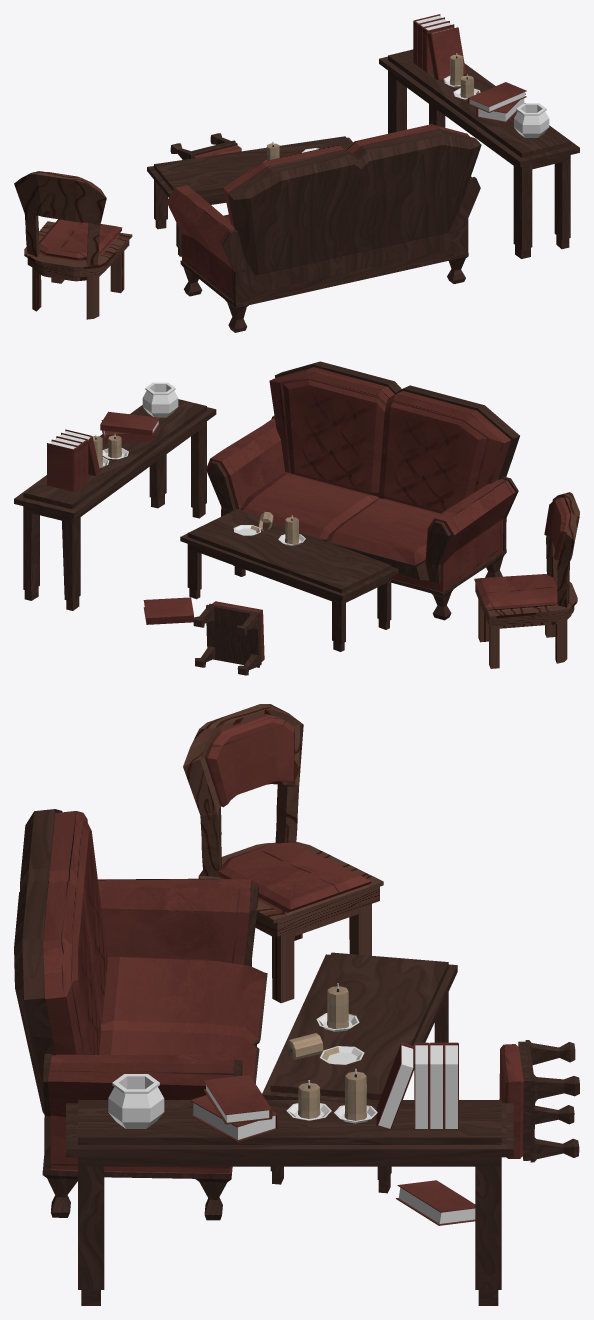
Rendered from koltuklar.fbx.
3 views of the same model, one above another, from view 1: azimuth 30°, elevation 25°; view 2: azimuth 150°, elevation 25°; view 3: azimuth 270°, elevation 25° (orthographic). The views are drawn at different scales.
Parts seen in each view (by area): view 1: KOLTUK.001, Cube.037, Cube.163, Cube.036, Cube.043, Cube.040, Cube.041, Cylinder.011, koltuk yan şeyi, Cube.042, Cube.061; view 2: KOLTUK.001, Cube.037, Cube.036, Cube.163, koltuk yan şeyi, Cube.040, Cube.030, Cube.041, Cylinder.011, Cube.059, Cube.043, Cube.062 (+1 smaller); view 3: KOLTUK.001, Cube.037, Cube.163, Cube.036, koltuk yan şeyi, Cube.040, Cylinder.011, Cube.041, Cube.030, Cube.043, Cube.042, Cube.061 (+3 smaller).
Part boxes in pixels (x1,y1,x2,y2): KOLTUK.001: [166, 124, 481, 332]; Cube.037: [379, 49, 579, 258]; Cube.163: [14, 171, 132, 319]; Cube.036: [147, 136, 352, 256]; Cube.043: [427, 27, 465, 79]; Cube.040: [413, 14, 454, 72]; Cube.041: [467, 82, 526, 112]; Cylinder.011: [514, 103, 549, 137]; koltuk yan şeyi: [170, 133, 241, 159]; Cube.042: [476, 93, 525, 122]; Cube.061: [443, 53, 463, 87]; KOLTUK.001: [206, 361, 519, 620]; Cube.037: [14, 399, 216, 610]; Cube.036: [180, 509, 398, 651]; Cube.163: [474, 492, 579, 668]; koltuk yan şeyi: [193, 601, 264, 675]; Cube.040: [47, 432, 88, 491]; Cube.030: [143, 597, 193, 624]; Cube.041: [100, 411, 159, 435]; Cylinder.011: [142, 382, 178, 417]; Cube.059: [278, 515, 305, 545]; Cube.043: [65, 429, 100, 475]; Cube.062: [102, 434, 128, 459]; KOLTUK.001: [14, 809, 267, 1220]; Cube.037: [66, 1100, 513, 1305]; Cube.163: [183, 704, 383, 1003]; Cube.036: [262, 952, 457, 1193]; koltuk yan şeyi: [499, 1040, 579, 1162]; Cube.040: [414, 1042, 458, 1129]; Cylinder.011: [108, 1074, 164, 1128]; Cube.041: [203, 1075, 272, 1124]; Cube.030: [396, 1180, 475, 1225]; Cube.043: [376, 1042, 414, 1129]; Cube.042: [190, 1095, 278, 1142]; Cube.061: [334, 1068, 377, 1123].
Bounding box in the file's own units: 821 × 266 × 518.
